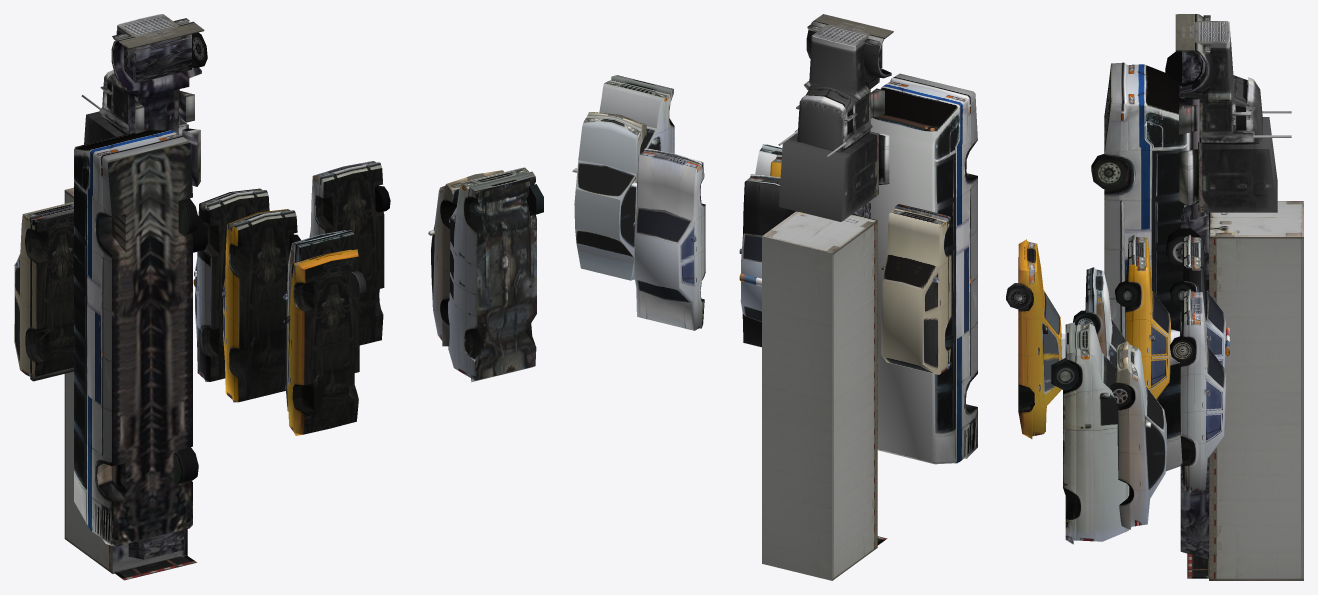
The model's file is CarPack.FBX.
The picture shows the model from 3 angles, left to right: view 1: azimuth 30°, elevation 25°; view 2: azimuth 150°, elevation 25°; view 3: azimuth 270°, elevation 25°; orthographic projection. The views are drawn at different scales.
Parts seen in each view (by area): view 1: CarBus, TrafficCV, CarTaxi, CarTaxiB, CarTruck, CarSuv, Car2, CarPolice, Trailer, TrafficC1, CarWag, WB2; view 2: Trailer, CarBus, CarTruck, Car2, CarSuv, TrafficC1, CarPolice, TrafficCV, CarWag; view 3: Trailer, CarBus, CarTruck, TrafficCV, TrafficC1, Car2, CarTaxi, CarTaxiB, CarPolice, CarWag, WB1, TrafficWV (+6 smaller).
Boxes of the visible parts, left/top/right/bottom form: CarBus: left=74, top=130, right=192, bottom=546; TrafficCV: left=448, top=167, right=536, bottom=382; CarTaxi: left=283, top=249, right=359, bottom=435; CarTaxiB: left=222, top=209, right=297, bottom=402; CarTruck: left=81, top=14, right=204, bottom=186; CarSuv: left=14, top=201, right=73, bottom=381; Car2: left=309, top=161, right=384, bottom=345; CarPolice: left=193, top=188, right=269, bottom=381; Trailer: left=64, top=187, right=196, bottom=580; TrafficC1: left=428, top=170, right=503, bottom=346; CarWag: left=282, top=230, right=354, bottom=411; WB2: left=173, top=447, right=198, bottom=484; Trailer: left=762, top=211, right=887, bottom=580; CarBus: left=868, top=73, right=977, bottom=464; CarTruck: left=778, top=14, right=893, bottom=221; Car2: left=633, top=148, right=705, bottom=330; CarSuv: left=881, top=204, right=951, bottom=374; TrafficC1: left=572, top=112, right=646, bottom=280; CarPolice: left=739, top=174, right=795, bottom=347; TrafficCV: left=599, top=75, right=674, bottom=279; CarWag: left=755, top=144, right=782, bottom=175; Trailer: left=1180, top=201, right=1303, bottom=580; CarBus: left=1104, top=62, right=1189, bottom=471; CarTruck: left=1175, top=14, right=1291, bottom=292; TrafficCV: left=1063, top=322, right=1129, bottom=544; TrafficC1: left=1115, top=341, right=1166, bottom=529; Car2: left=1180, top=289, right=1225, bottom=492; CarTaxi: left=1018, top=239, right=1065, bottom=438; CarTaxiB: left=1125, top=235, right=1179, bottom=399; CarPolice: left=1180, top=235, right=1229, bottom=370; CarWag: left=1085, top=267, right=1125, bottom=366; WB1: left=1091, top=154, right=1127, bottom=188; TrafficWV: left=1051, top=358, right=1078, bottom=391.
Size of the model in its own units: 1385 by 1633 by 831.
